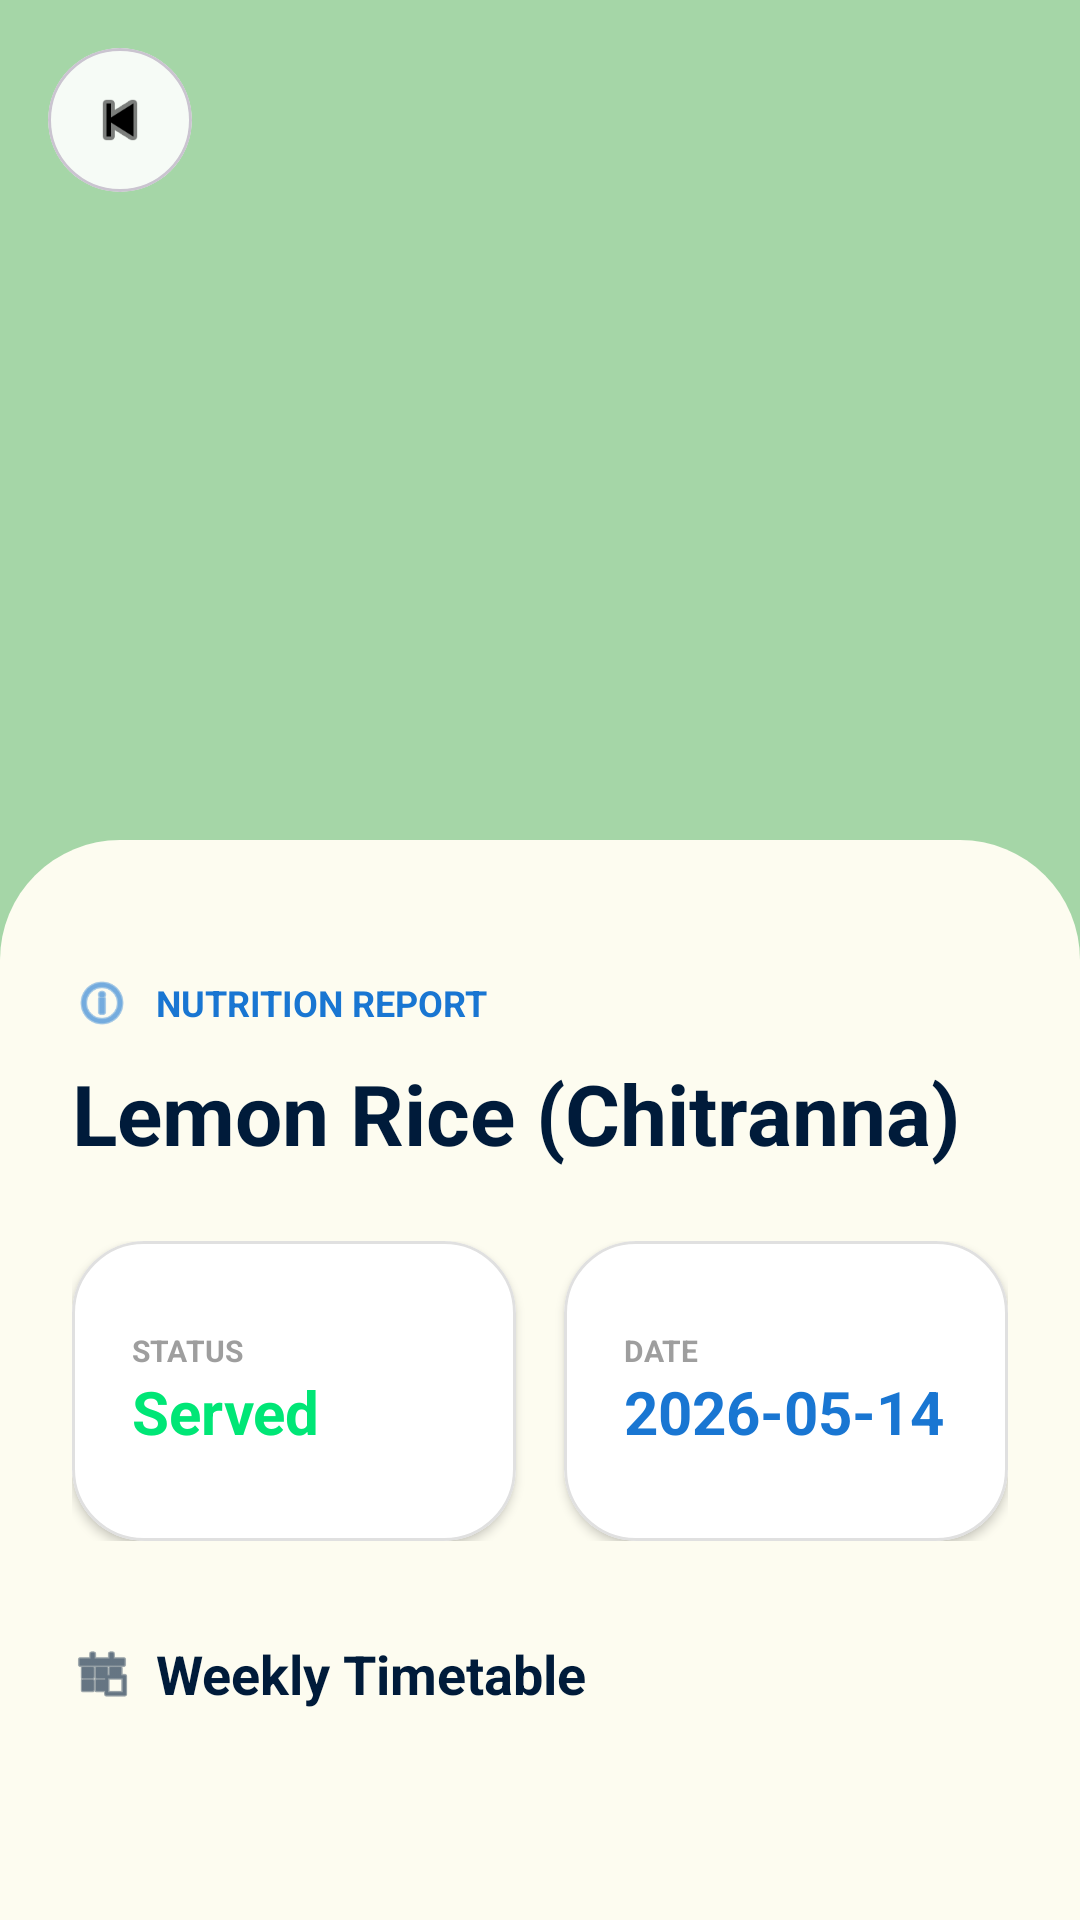

Icons on this 1080*1920 Android screen, each with the point to tap as point (x, y):
info details: point (102, 1003)
previous: point (120, 120)
today: point (102, 1674)
